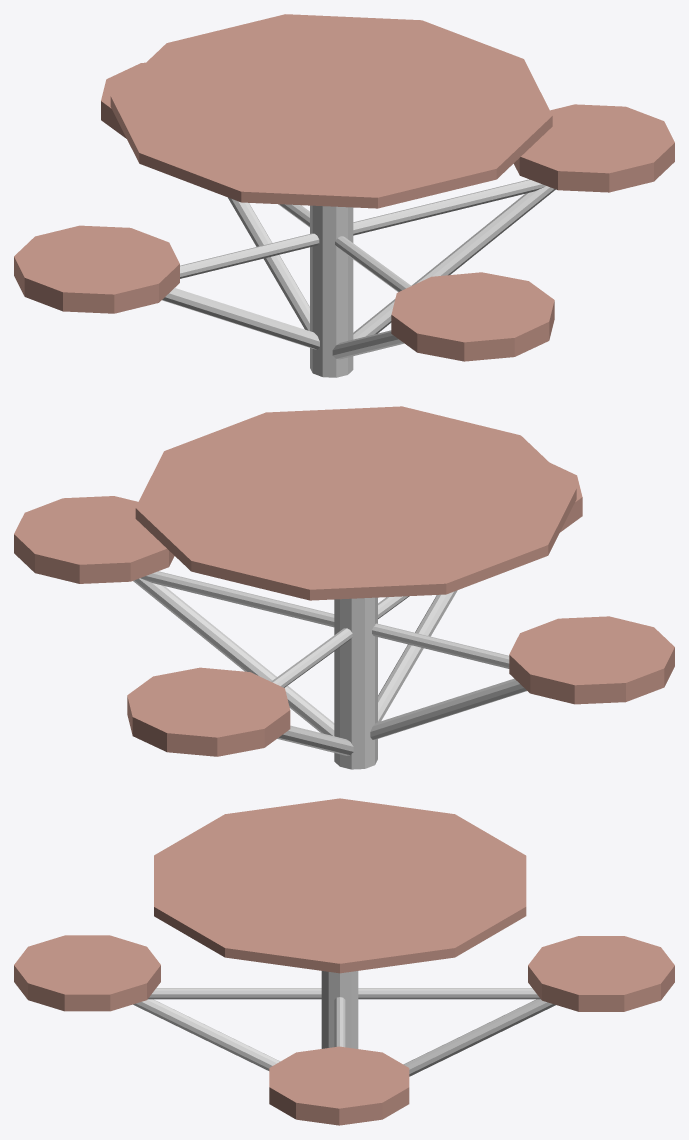
File: table2new.fbx
3 views of the same model, one above another, from view 1: azimuth 30°, elevation 25°; view 2: azimuth 150°, elevation 25°; view 3: azimuth 270°, elevation 25° (orthographic). The views are drawn at different scales.
Parts seen in each view (by area): view 1: table2, table2.001; view 2: table2, table2.001; view 3: table2, table2.001.
Part boxes in pixels (x1,y1,x2,y2): table2: (14,14,674,361); table2.001: (162,179,555,377); table2: (14,406,674,756); table2.001: (133,571,526,769); table2: (14,798,674,1125); table2.001: (133,971,555,1076).
Bounding box in the file's own units: 258 × 101 × 262.
